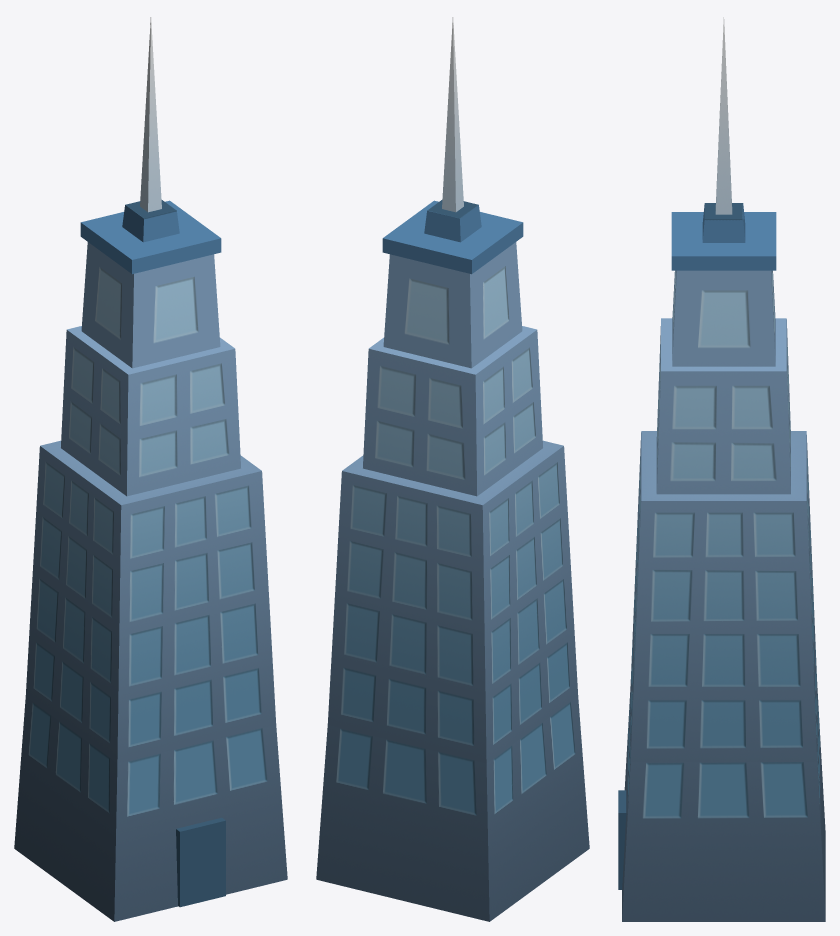
File: Building1.fbx
3 renders of one model, left to right at view 1: azimuth 30°, elevation 25°; view 2: azimuth 150°, elevation 25°; view 3: azimuth 270°, elevation 25°, orthographic.
Visible parts, largest first — view 1: Building1; view 2: Building1; view 3: Building1.
Boxes of the visible parts, x1,y1,x2,y2 form: Building1: (14, 17, 287, 921); Building1: (316, 17, 589, 921); Building1: (618, 17, 825, 921).
Bounding box in the file's own units: 236 × 1107 × 241.
